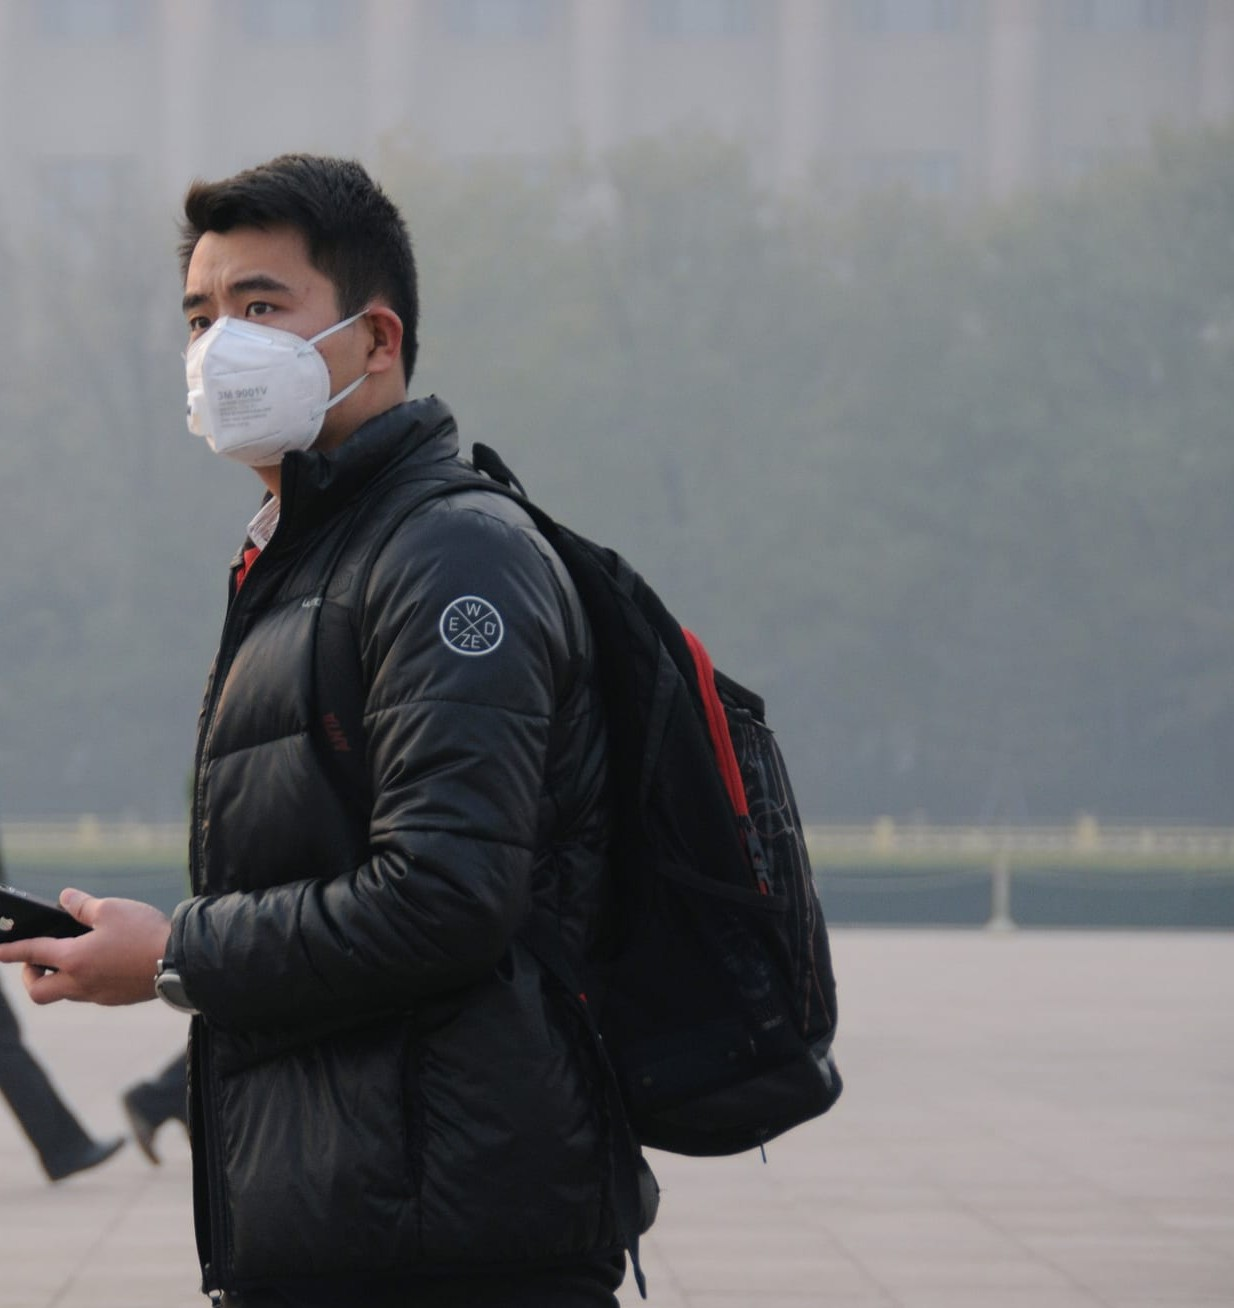with_mask: (173, 186, 443, 464)
